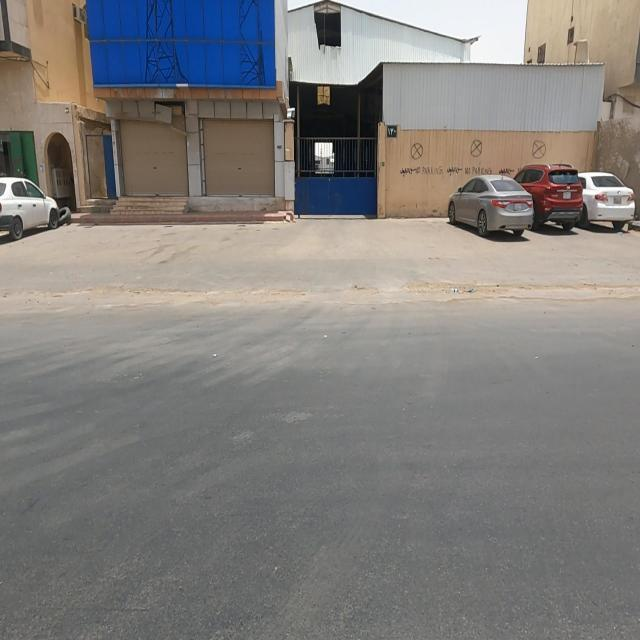debris: (408, 103, 526, 211), (373, 110, 473, 224), (511, 110, 578, 184)
